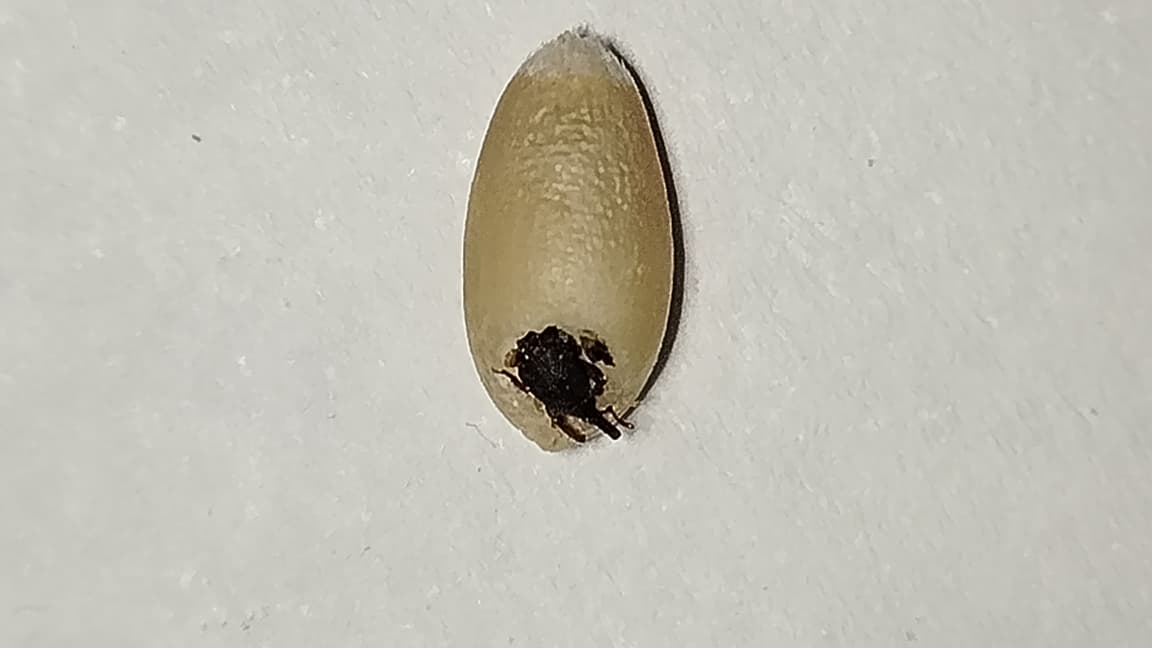damage: (462, 32, 673, 449)
insectdamage: (494, 314, 633, 453)
